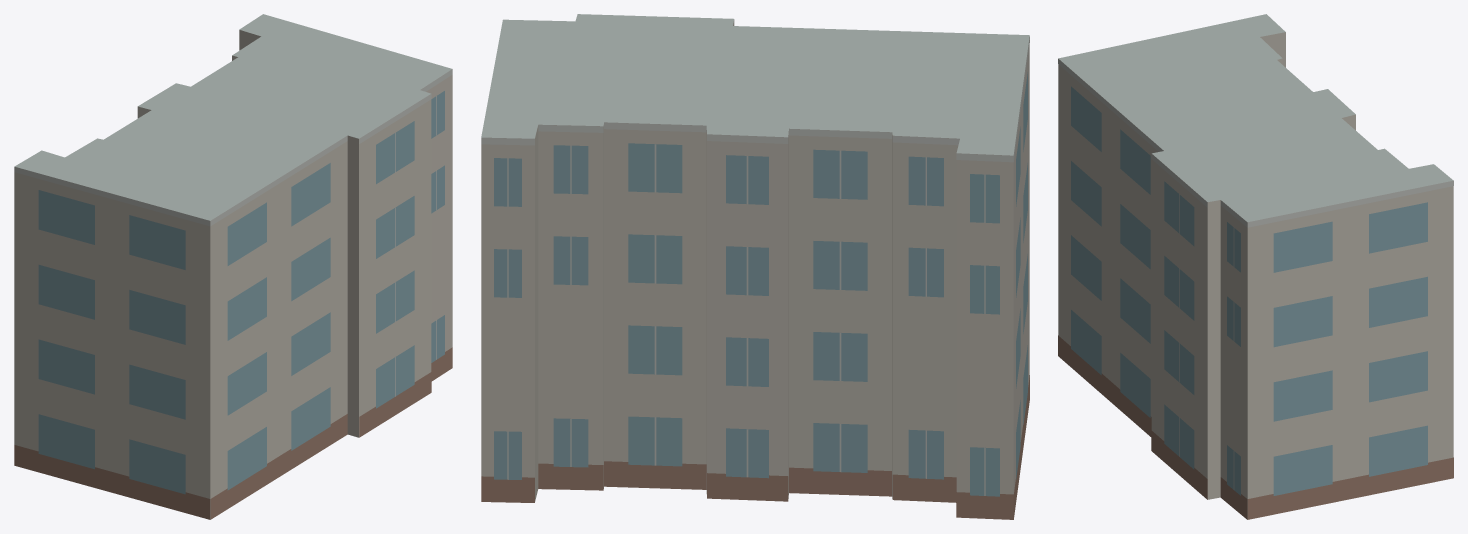
The model's file is survey-upis-32741385.glb.
3 views of the same model, side by side, from view 1: azimuth 30°, elevation 25°; view 2: azimuth 150°, elevation 25°; view 3: azimuth 270°, elevation 25° (orthographic). The views are drawn at different scales.
Parts seen in each view (by area): view 1: survey-upis-32741385.tmp; view 2: survey-upis-32741385.tmp; view 3: survey-upis-32741385.tmp.
Part boxes in pixels (x1,y1,x2,y2): survey-upis-32741385.tmp: (14,14,452,519); survey-upis-32741385.tmp: (481,14,1029,519); survey-upis-32741385.tmp: (1058,14,1453,519).
Size of the model in its own units: 19.82 by 13.2 by 15.91.
